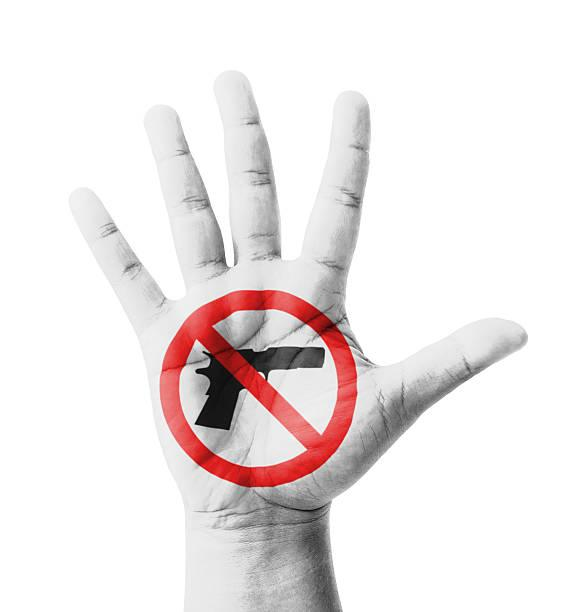weapon: (195, 339, 328, 430)
